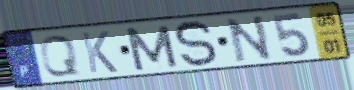5: (270, 11, 312, 59)
K: (78, 29, 120, 75)
M: (122, 23, 181, 73)
N: (223, 14, 275, 65)
Q: (37, 33, 82, 78)
S: (172, 18, 220, 70)
